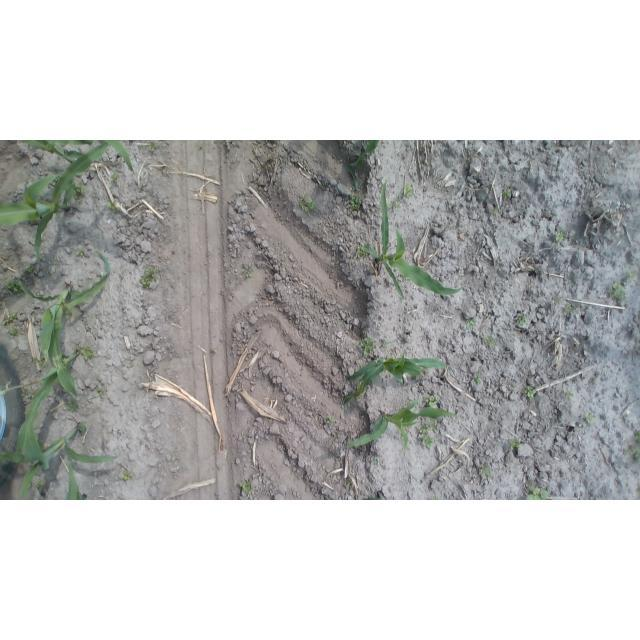Maize: (1, 250, 112, 399), (0, 140, 114, 266), (359, 177, 467, 301), (1, 349, 82, 468), (0, 422, 120, 499), (340, 395, 465, 455), (341, 352, 446, 405), (22, 140, 136, 178), (346, 140, 381, 192), (359, 490, 392, 500)
Weeds: (1, 312, 24, 340), (418, 421, 437, 450), (624, 429, 640, 460), (523, 485, 553, 500), (141, 265, 161, 287), (359, 335, 377, 357), (72, 182, 88, 206), (608, 283, 627, 303), (346, 193, 363, 214), (298, 197, 317, 215), (66, 397, 83, 415), (238, 478, 254, 496), (6, 277, 22, 294), (240, 264, 256, 281), (464, 315, 481, 331), (387, 199, 406, 213), (522, 384, 538, 400), (478, 462, 494, 478), (552, 230, 568, 246), (423, 396, 442, 409), (76, 346, 92, 361), (145, 141, 164, 153), (117, 469, 136, 481), (580, 411, 596, 425), (514, 312, 530, 326), (627, 267, 640, 284), (481, 334, 495, 349), (106, 200, 120, 214), (356, 243, 369, 258), (402, 183, 415, 198), (32, 356, 48, 368), (23, 264, 37, 277), (35, 479, 50, 491), (508, 435, 520, 449), (473, 371, 484, 385), (109, 171, 120, 185), (94, 386, 106, 398), (563, 388, 574, 401), (562, 304, 575, 315), (501, 187, 511, 201), (551, 294, 561, 307), (380, 339, 392, 349), (487, 208, 500, 217), (325, 415, 335, 426), (77, 421, 87, 431), (20, 390, 34, 397), (372, 457, 380, 467), (76, 246, 84, 256), (431, 496, 440, 501)
